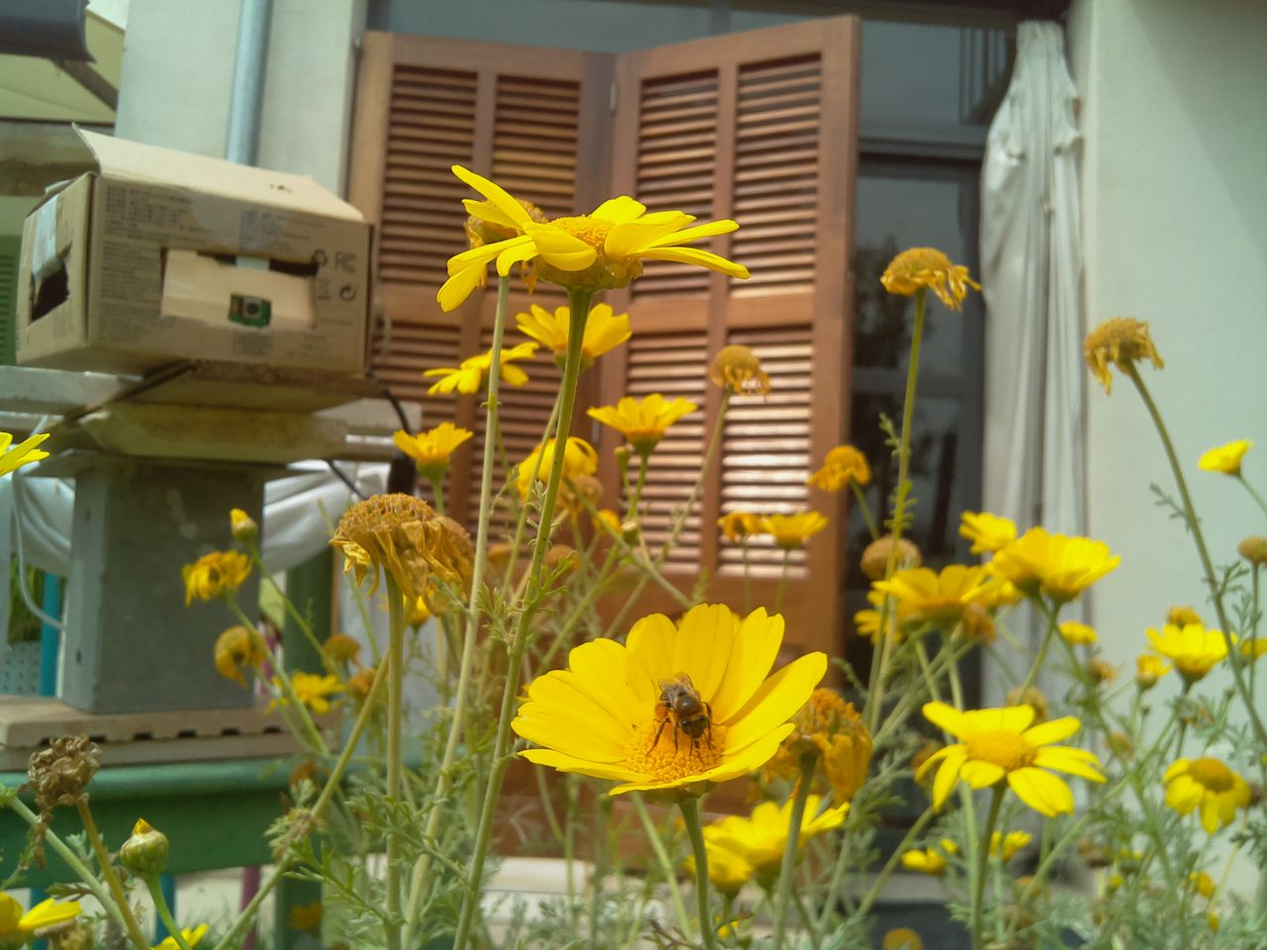Eucera: (636, 669, 731, 765)
